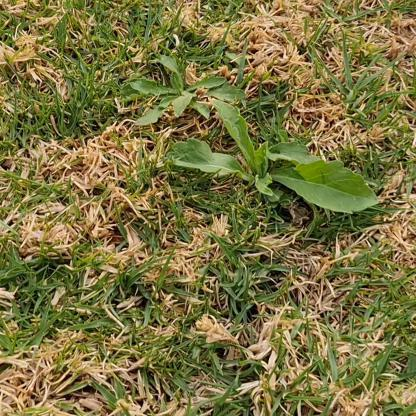Weeds: (165, 99, 380, 215), (120, 55, 245, 125)
